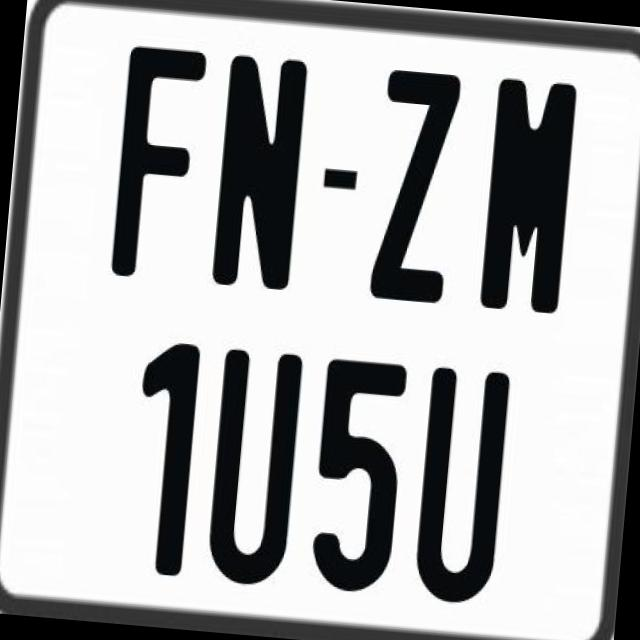1: (122, 340, 200, 577)
5: (304, 356, 410, 598)
F: (106, 43, 204, 284)
M: (476, 77, 580, 320)
N: (210, 52, 312, 290)
U: (410, 362, 514, 600), (201, 346, 304, 584)
Z: (364, 68, 462, 312)
